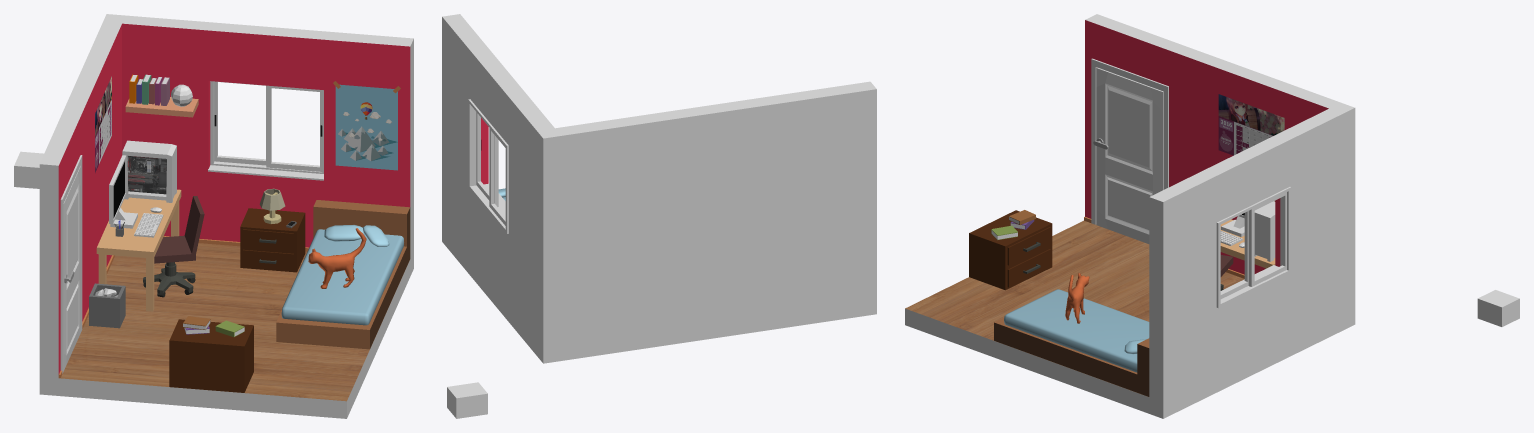
3 renders of one model, left to right at view 1: azimuth 30°, elevation 25°; view 2: azimuth 150°, elevation 25°; view 3: azimuth 270°, elevation 25°, orthographic. The views are drawn at different scales.
Parts seen in each view (by area): view 1: Cube.002, Cube, Screen; view 2: Cube.002, Cube; view 3: Cube.002, Cube.
Part boxes in pixels (<box>): Cube.002: <box>39,14,413,418</box>; Cube: <box>14,151,43,188</box>; Screen: <box>113,161,124,217</box>; Cube.002: <box>442,14,876,363</box>; Cube: <box>447,382,487,418</box>; Cube.002: <box>905,14,1355,418</box>; Cube: <box>1477,290,1519,326</box>.
Size of the model in its own units: 14.82 by 7.96 by 20.46.
4 materials, 2 textured.
